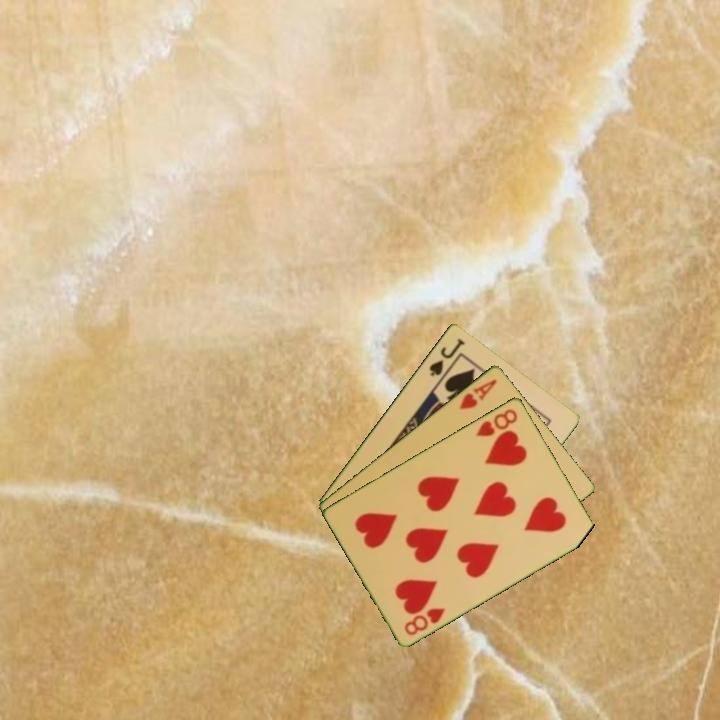8h: (472, 405, 520, 439), (401, 604, 448, 638)
Ah: (456, 375, 500, 412)
Js: (426, 334, 467, 379)
